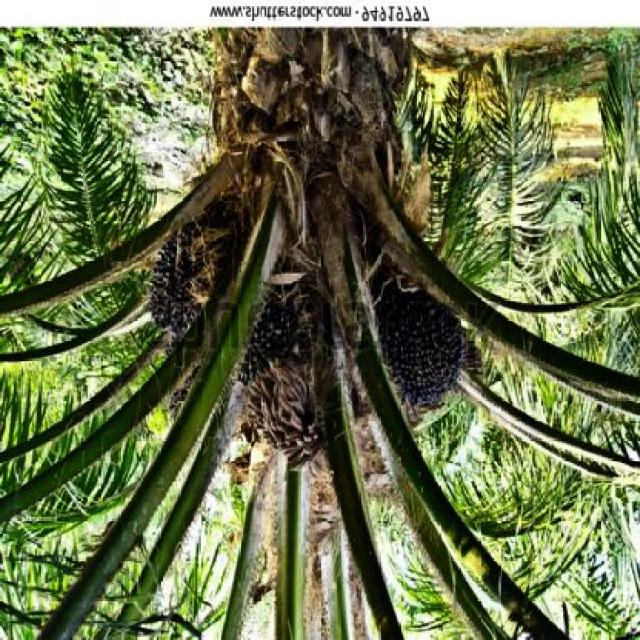palm-oil: (373, 284, 468, 416), (244, 307, 317, 459), (142, 229, 231, 346)
